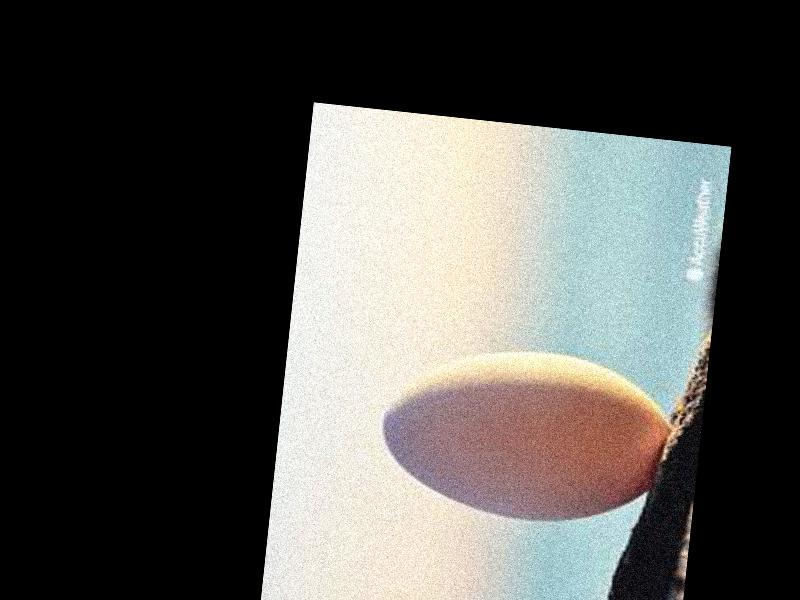Eggs: (371, 335, 673, 534)
